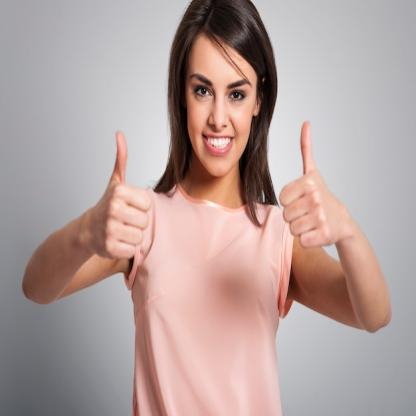thumb_up: (274, 120, 341, 253), (96, 126, 154, 268)
